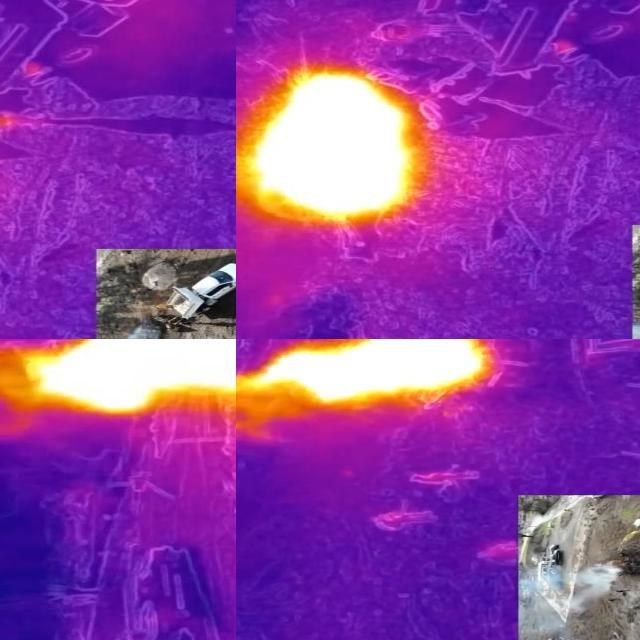fire: (237, 73, 421, 225), (24, 340, 237, 421), (237, 340, 489, 407)
